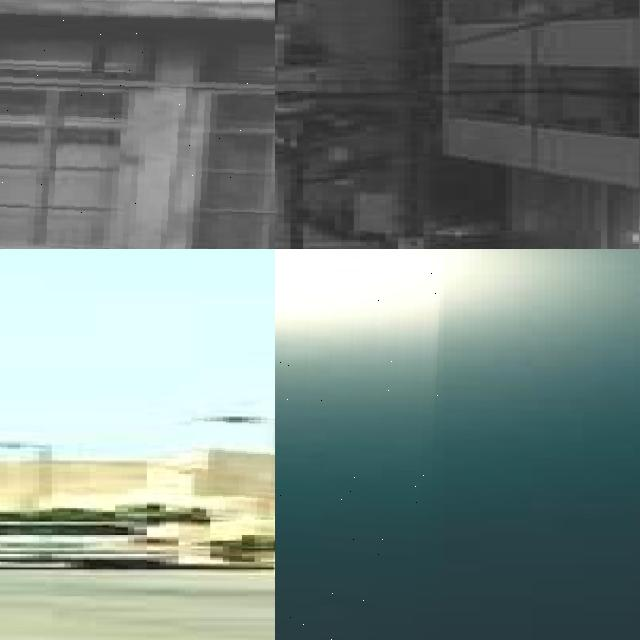street light: (0, 0, 275, 249), (275, 249, 443, 640), (191, 418, 275, 517)
